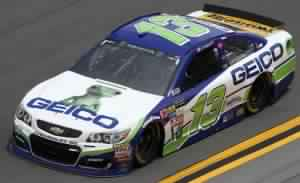Geico: (27, 95, 125, 127), (229, 42, 287, 85)
